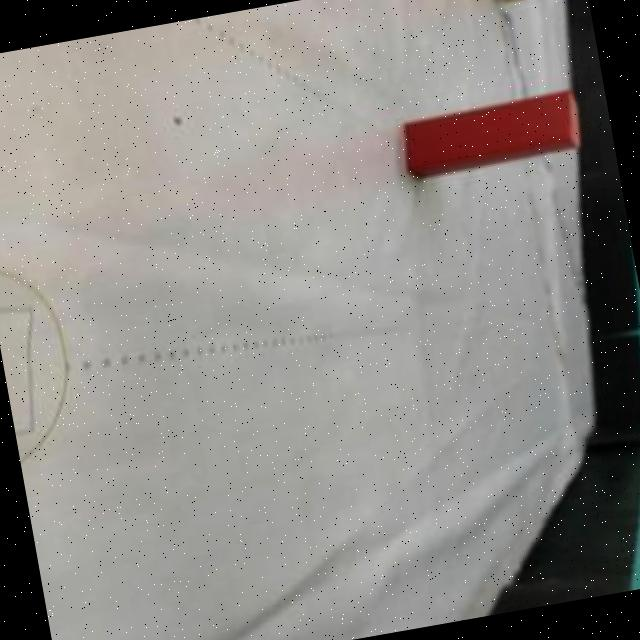redbox: (399, 85, 587, 179)
